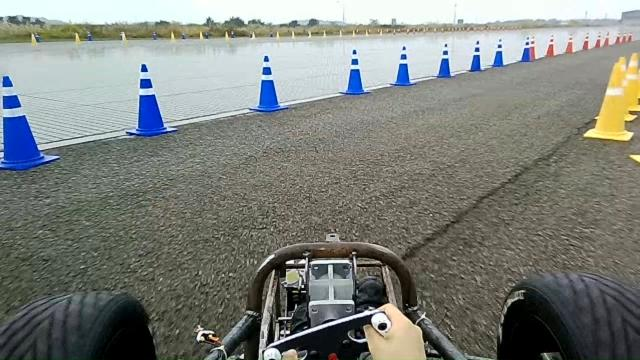blue cone: (0, 74, 60, 170), (125, 63, 178, 137), (248, 55, 290, 112), (338, 49, 371, 95), (388, 45, 416, 86), (435, 43, 455, 78), (467, 40, 485, 72), (491, 37, 506, 67), (518, 36, 534, 62)
yellow cone: (585, 61, 634, 142)
